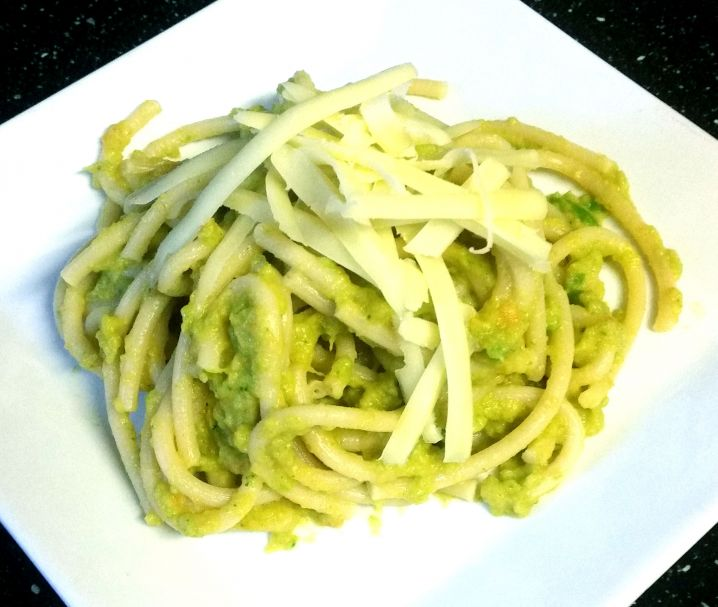plain spaghetti: (58, 123, 642, 532)
